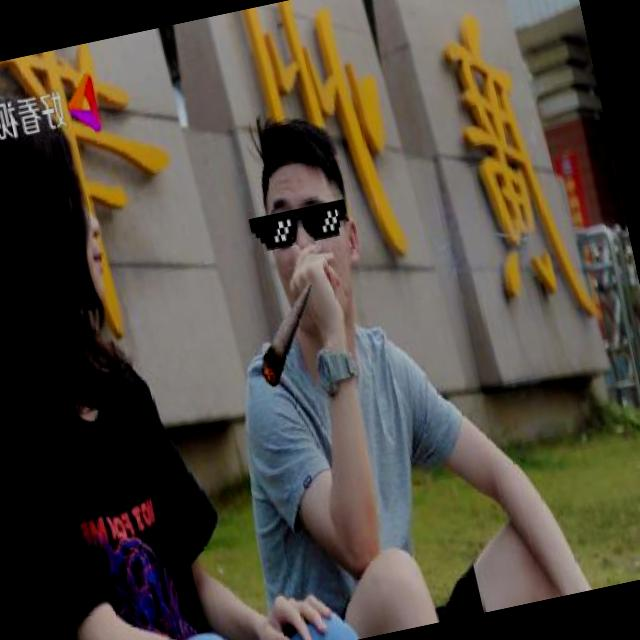cigarette: (306, 228, 329, 270)
